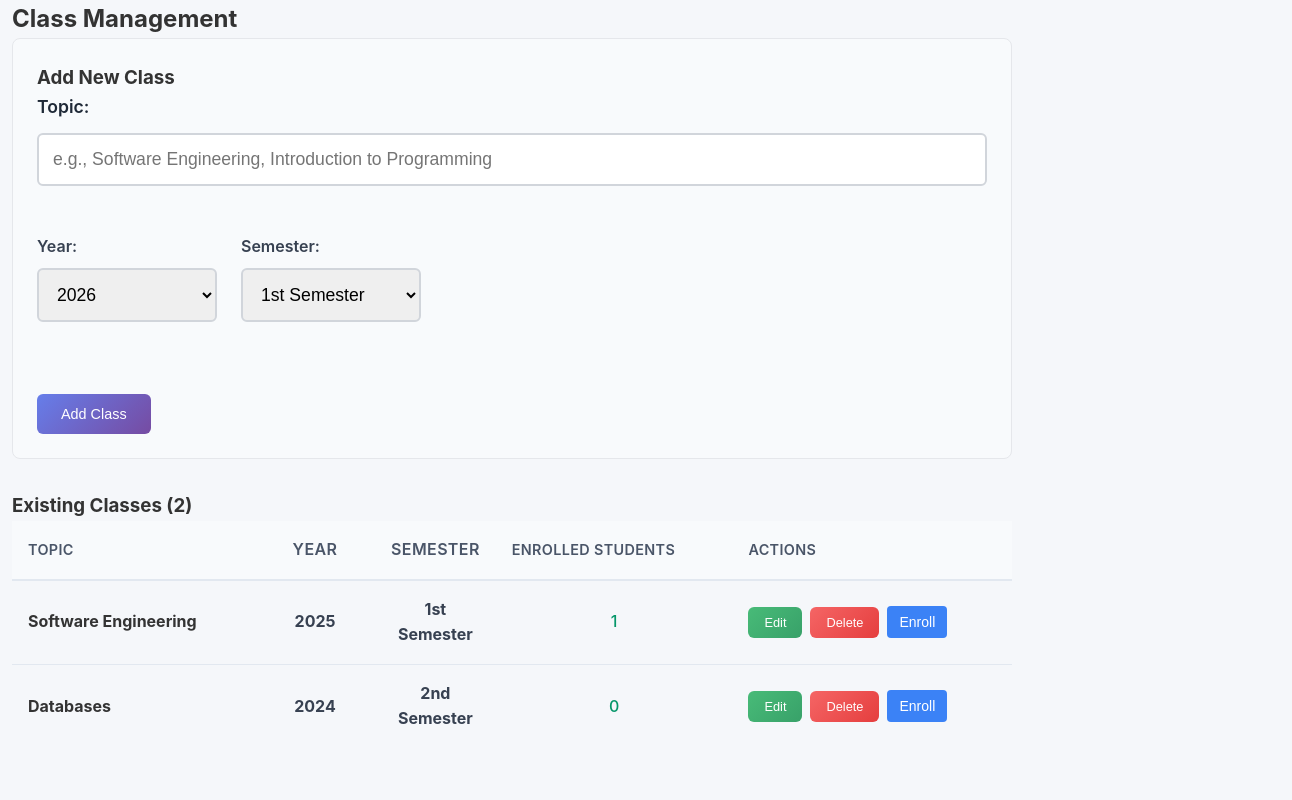
Classes › Edit fills the form and Update Class sends the changes; Cancel resets it
Click the button "Edit" in the row of "Software Engineering" at (775, 623), box top-left (748, 607), bottom-right (802, 638)
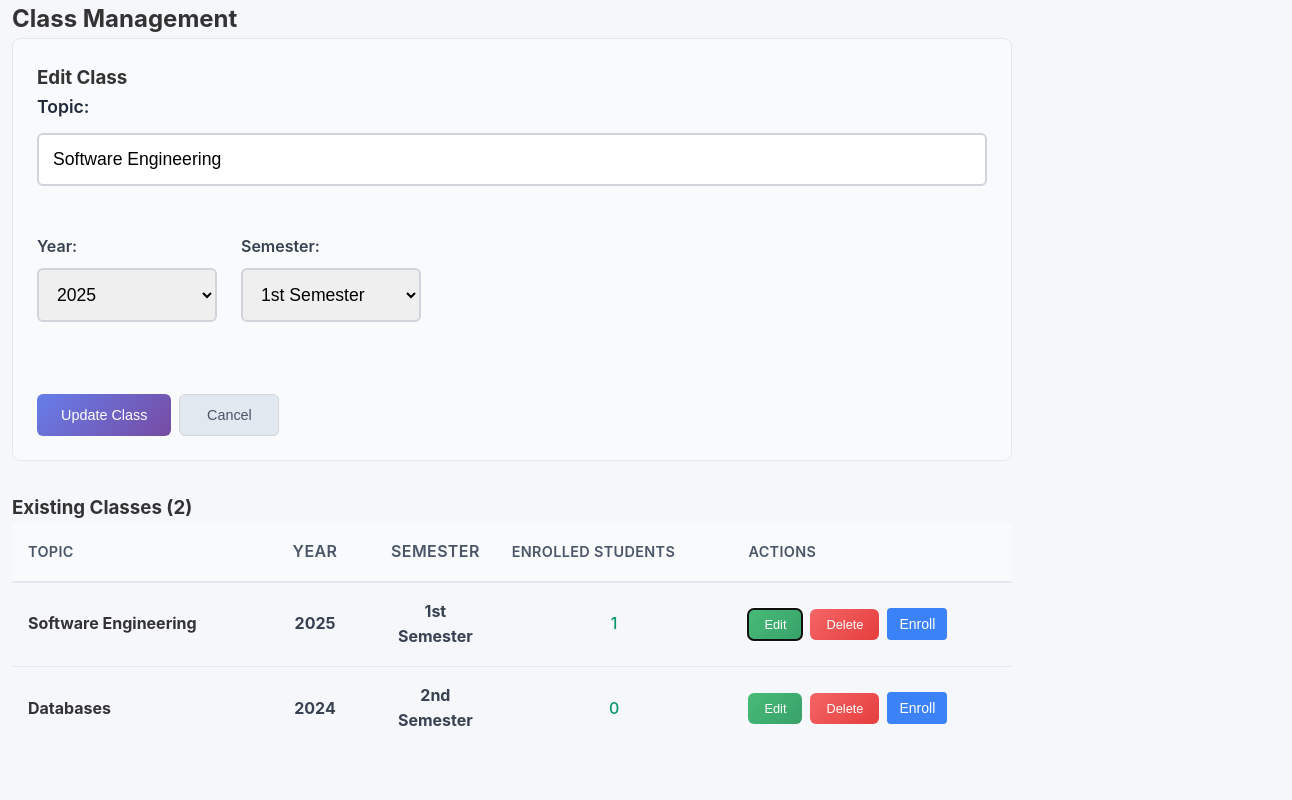
Expected: the heading "Edit Class" is shown, top-left (37, 66), bottom-right (127, 89)
Expected: the field labelled "Topic:" holds "Software Engineering", top-left (37, 134), bottom-right (987, 186)
Select "2nd Semester" in the dropdown labelled "Semester:" at (331, 295), box top-left (241, 268), bottom-right (421, 322)
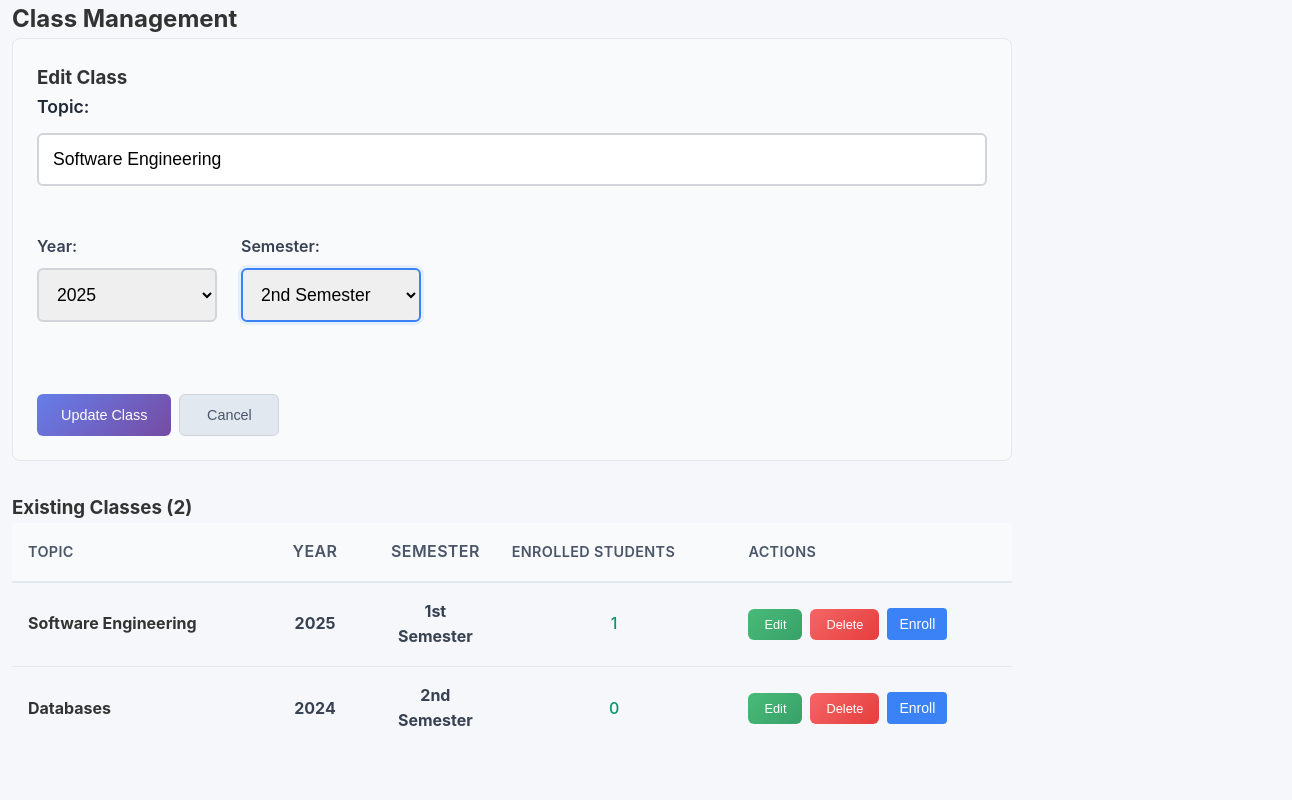
Click the button "Update Class" at (104, 415), box top-left (37, 394), bottom-right (171, 436)
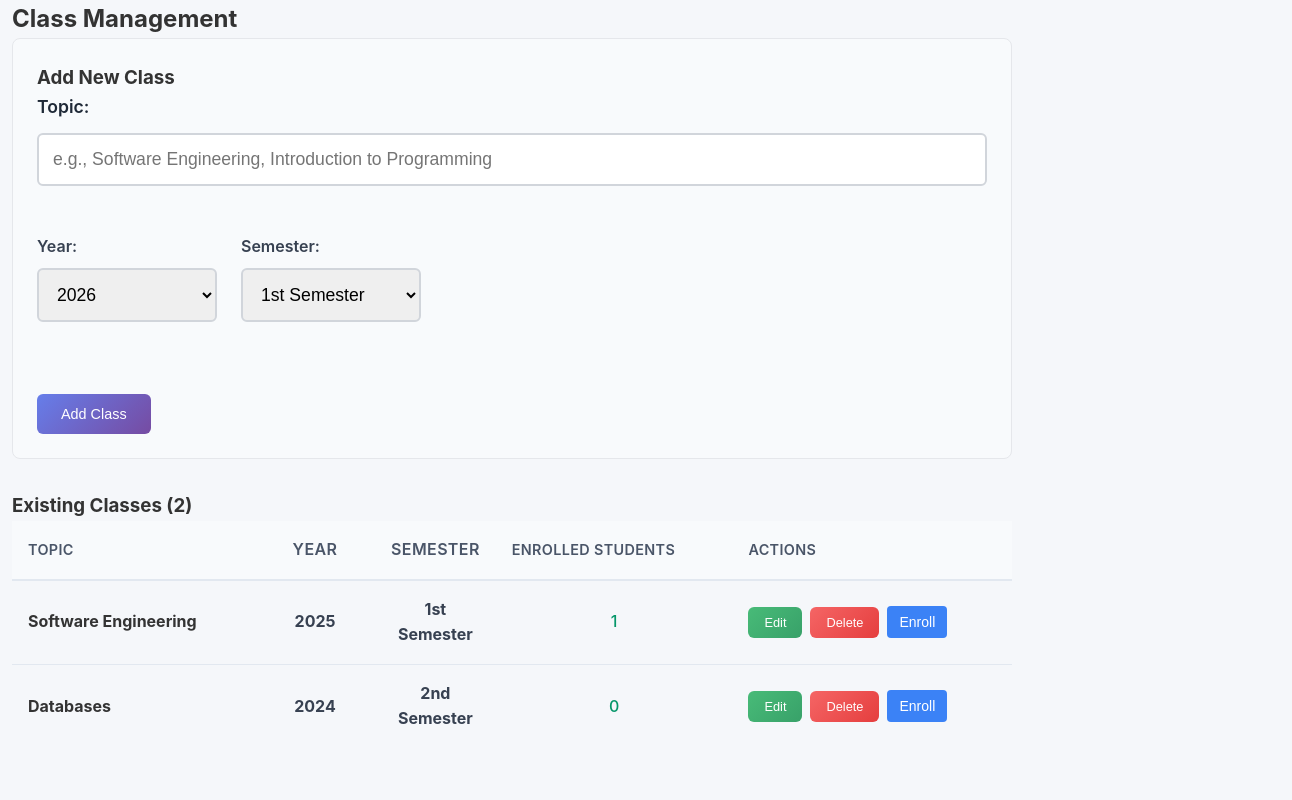
Expected: the heading "Add New Class" is shown, top-left (37, 66), bottom-right (175, 89)
Click the button "Edit" in the row of "Databases" at (775, 707), box top-left (748, 691), bottom-right (802, 722)
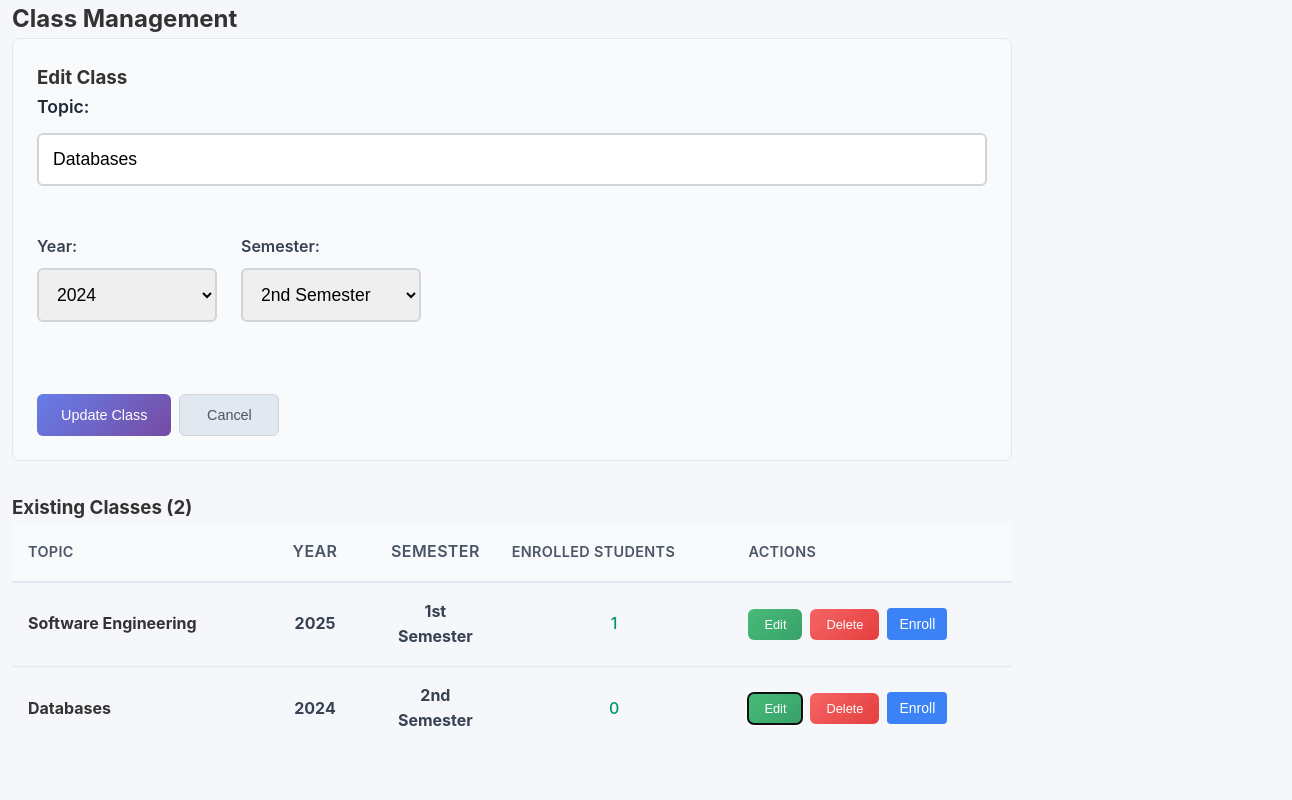
Click the button "Cancel" at (229, 415), box top-left (179, 394), bottom-right (279, 436)
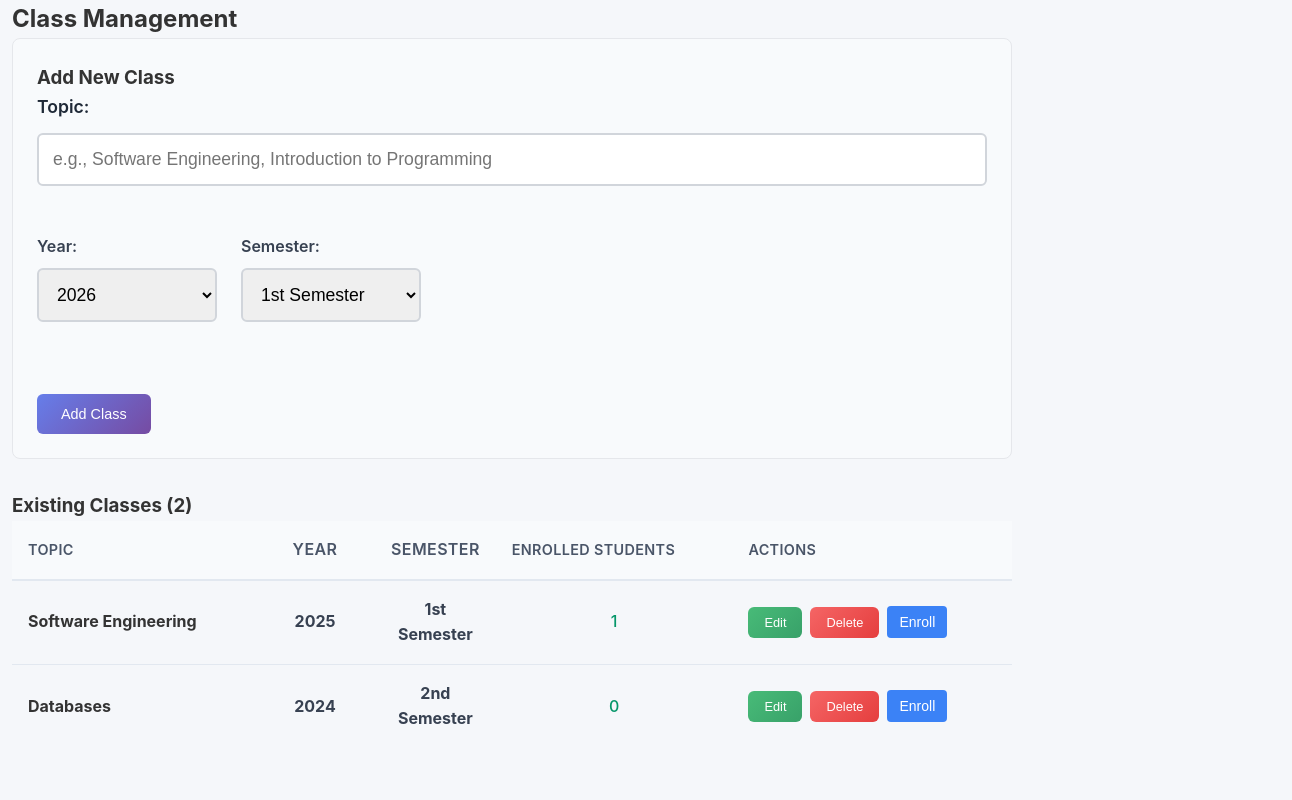
Expected: the heading "Add New Class" is shown, top-left (37, 66), bottom-right (175, 89)
Expected: the field labelled "Topic:" is empty, top-left (37, 134), bottom-right (987, 186)
